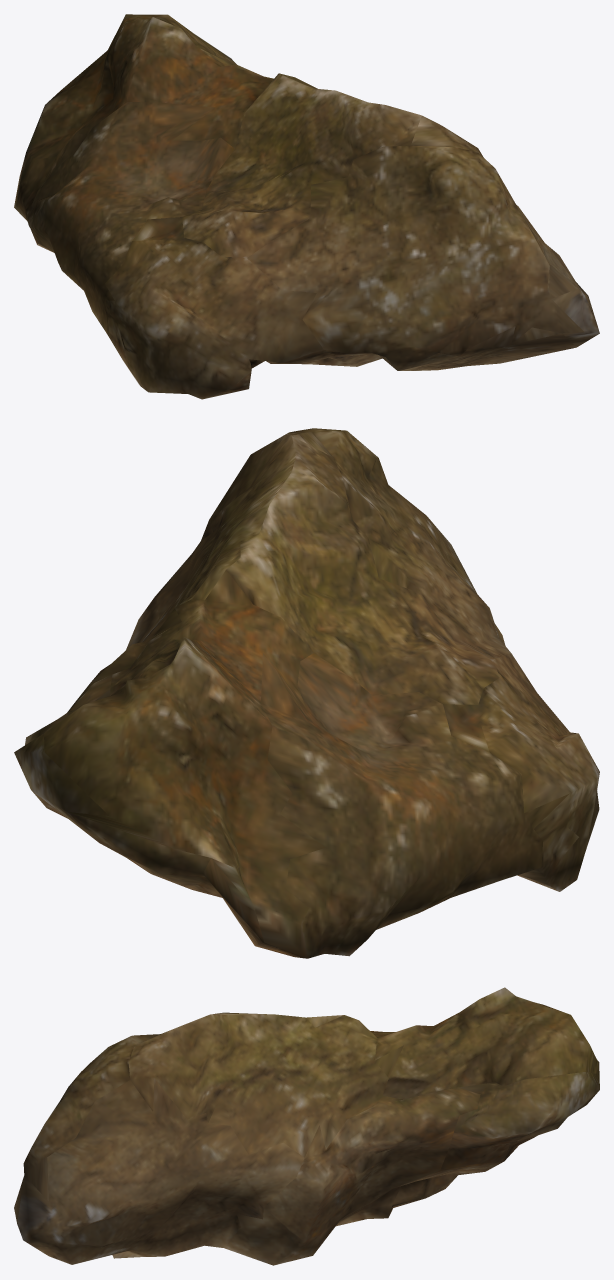
Rendered from pine_rock_a.glb.
The picture shows the model from 3 angles, top to bottom: view 1: azimuth 30°, elevation 25°; view 2: azimuth 150°, elevation 25°; view 3: azimuth 270°, elevation 25°; orthographic projection. The views are drawn at different scales.
Parts seen in each view (by area): view 1: pine_rock_a; view 2: pine_rock_a; view 3: pine_rock_a.
Part boxes in pixels (x1,y1,x2,y2): pine_rock_a: (14, 14, 599, 399); pine_rock_a: (14, 428, 599, 958); pine_rock_a: (14, 987, 599, 1265).
Size of the model in its own units: 1.13 by 0.7472 by 1.7.
1 material, 1 textured.
